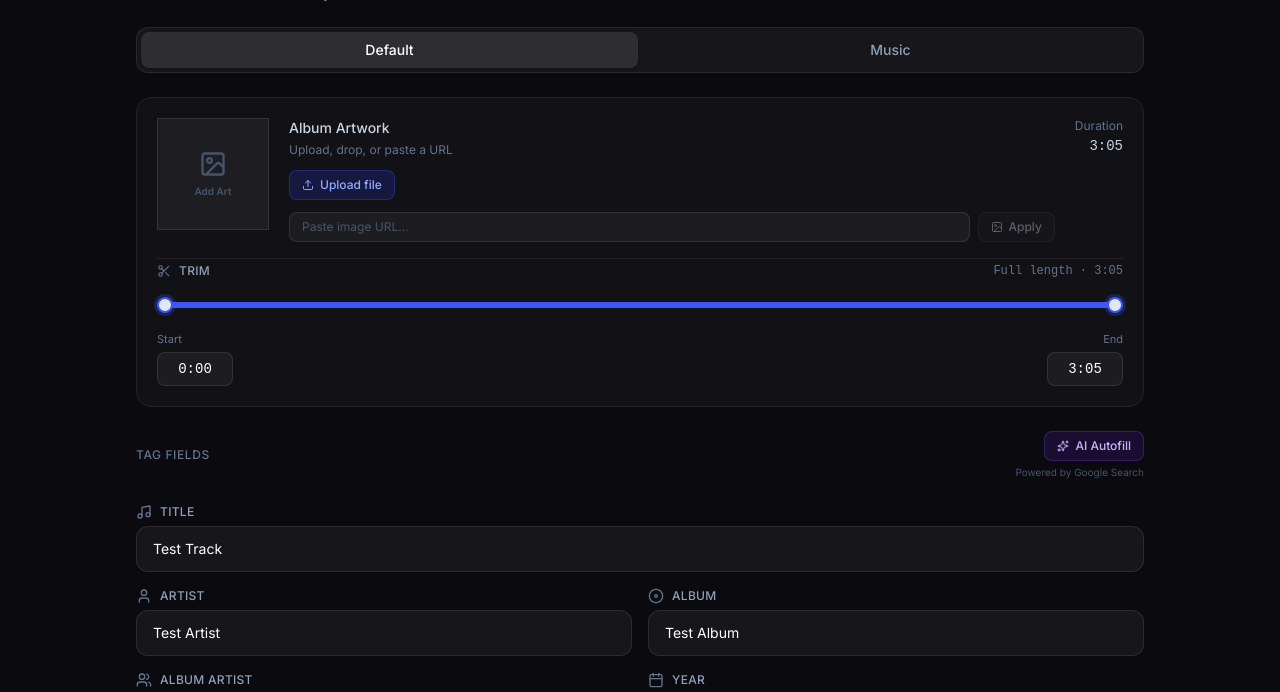
Test: TagEditor rendering › updates current artist and album artist after adding mapping
Note: Switch to Music tab
Step 1. Click the button "music" → (890, 50), box 642,32 -> 1139,68
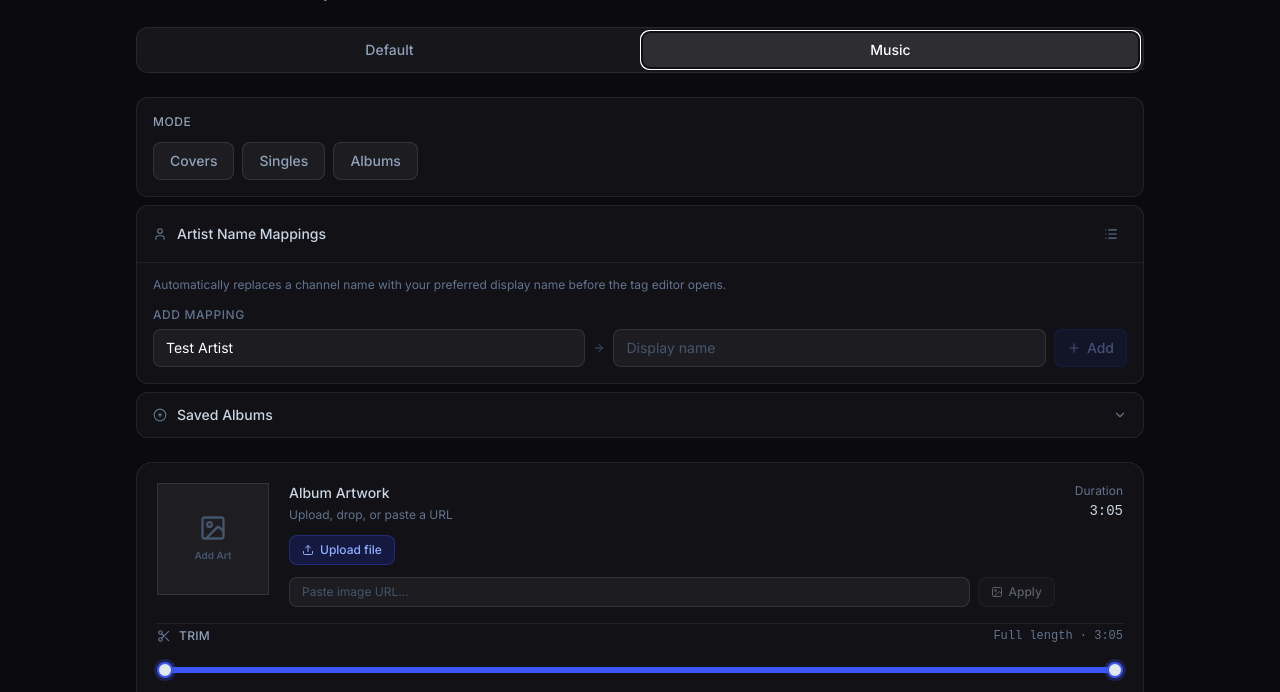
Check: the field with placeholder "Channel name (exact)" is shown, box 153,328 -> 585,366
Step 2. Type "Mapped Display" into the field with placeholder "Display name" → (830, 348), box 613,328 -> 1046,366
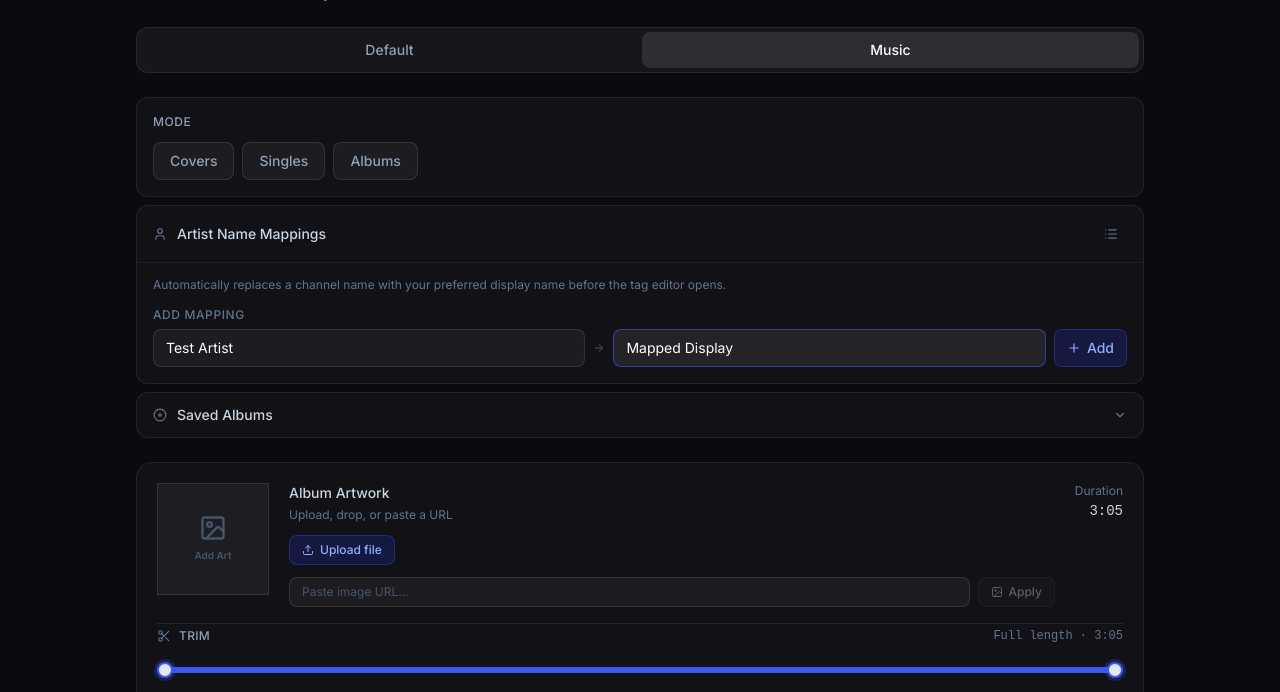
Step 3. Click the button "Add" → (1090, 348), box 1054,328 -> 1127,366
(page scrolled)
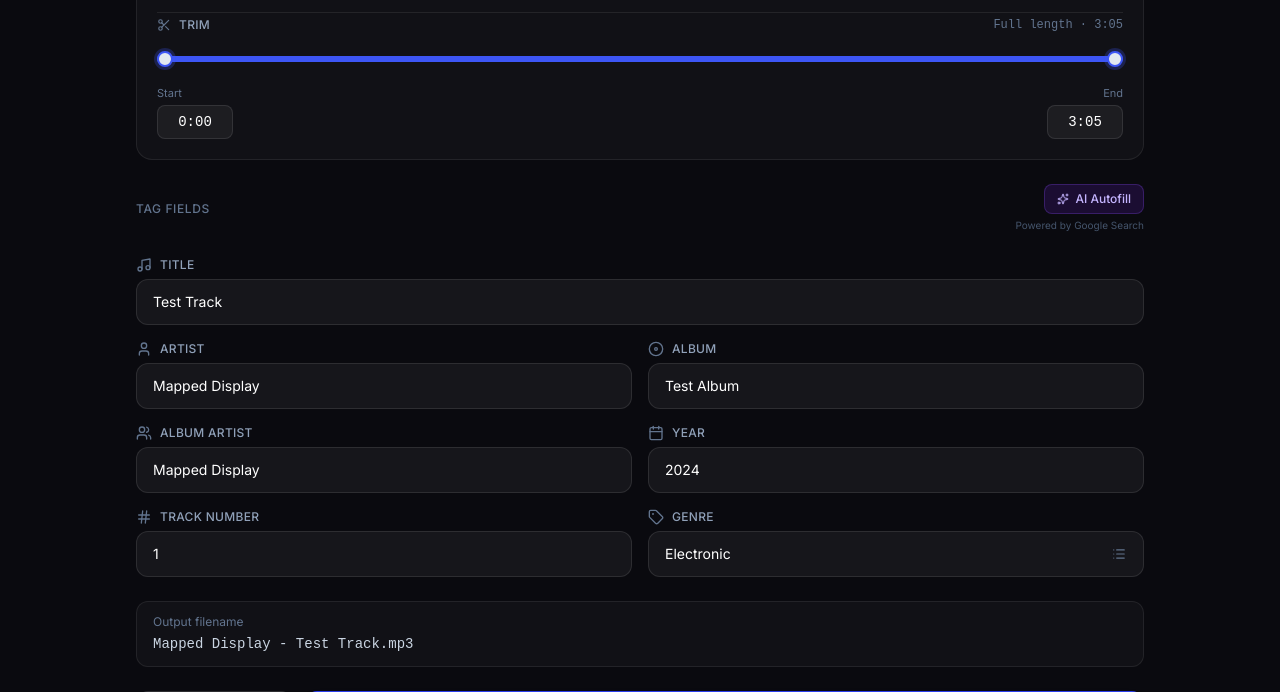
Check: the 2nd field with placeholder "Artist name" holds "Mapped Display", box 136,363 -> 632,409
Check: the field with placeholder "Album artist name" below "Album Artist" holds "Mapped Display", box 136,447 -> 632,493
